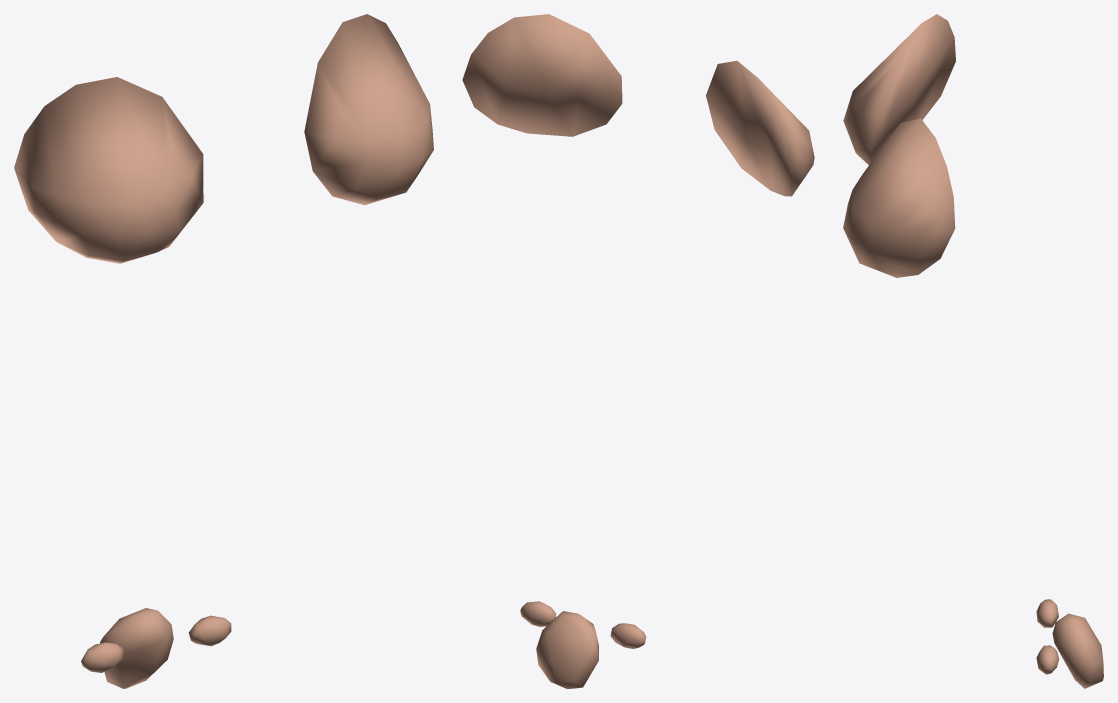
The model's file is pediatric_adolescent_female.reproductive.LOD3.glb.
3 views of the same model, side by side, from view 1: azimuth 30°, elevation 25°; view 2: azimuth 150°, elevation 25°; view 3: azimuth 270°, elevation 25° (orthographic). The views are drawn at different scales.
Parts seen in each view (by area): view 1: PEDIATRIC.ADOLESCENT.FEMALE.REPRODUCTIVE.BREAST_ADIPOSE_TISS (×2), PEDIATRIC.ADOLESCENT.FEMALE.REPRODUCTIVE.UTERUS, PEDIATRIC.ADOLESCENT.FEMALE.REPRODUCTIVE.OVARY.L, PEDIATRIC.ADOLESCENT.FEMALE.REPRODUCTIVE.OVARY.R; view 2: PEDIATRIC.ADOLESCENT.FEMALE.REPRODUCTIVE.BREAST_ADIPOSE_TISS (×2), PEDIATRIC.ADOLESCENT.FEMALE.REPRODUCTIVE.UTERUS, PEDIATRIC.ADOLESCENT.FEMALE.REPRODUCTIVE.OVARY.R, PEDIATRIC.ADOLESCENT.FEMALE.REPRODUCTIVE.OVARY.L; view 3: PEDIATRIC.ADOLESCENT.FEMALE.REPRODUCTIVE.BREAST_ADIPOSE_TISS (×2), PEDIATRIC.ADOLESCENT.FEMALE.REPRODUCTIVE.UTERUS, PEDIATRIC.ADOLESCENT.FEMALE.REPRODUCTIVE.OVARY.R, PEDIATRIC.ADOLESCENT.FEMALE.REPRODUCTIVE.OVARY.L.
Boxes of the visible parts, left/top/right/bottom form: PEDIATRIC.ADOLESCENT.FEMALE.REPRODUCTIVE.BREAST_ADIPOSE_TISS (×2): left=14, top=14, right=433, bottom=263; PEDIATRIC.ADOLESCENT.FEMALE.REPRODUCTIVE.UTERUS: left=100, top=608, right=173, bottom=688; PEDIATRIC.ADOLESCENT.FEMALE.REPRODUCTIVE.OVARY.L: left=188, top=615, right=231, bottom=646; PEDIATRIC.ADOLESCENT.FEMALE.REPRODUCTIVE.OVARY.R: left=81, top=642, right=124, bottom=672; PEDIATRIC.ADOLESCENT.FEMALE.REPRODUCTIVE.BREAST_ADIPOSE_TISS (×2): left=462, top=14, right=814, bottom=196; PEDIATRIC.ADOLESCENT.FEMALE.REPRODUCTIVE.UTERUS: left=536, top=611, right=598, bottom=688; PEDIATRIC.ADOLESCENT.FEMALE.REPRODUCTIVE.OVARY.R: left=610, top=623, right=646, bottom=648; PEDIATRIC.ADOLESCENT.FEMALE.REPRODUCTIVE.OVARY.L: left=520, top=601, right=556, bottom=626; PEDIATRIC.ADOLESCENT.FEMALE.REPRODUCTIVE.BREAST_ADIPOSE_TISS (×2): left=843, top=14, right=955, bottom=277; PEDIATRIC.ADOLESCENT.FEMALE.REPRODUCTIVE.UTERUS: left=1052, top=613, right=1103, bottom=688; PEDIATRIC.ADOLESCENT.FEMALE.REPRODUCTIVE.OVARY.R: left=1036, top=599, right=1058, bottom=627; PEDIATRIC.ADOLESCENT.FEMALE.REPRODUCTIVE.OVARY.L: left=1036, top=645, right=1059, bottom=674.
Bounding box in the file's own units: 0.2496 × 0.4289 × 0.1642.
